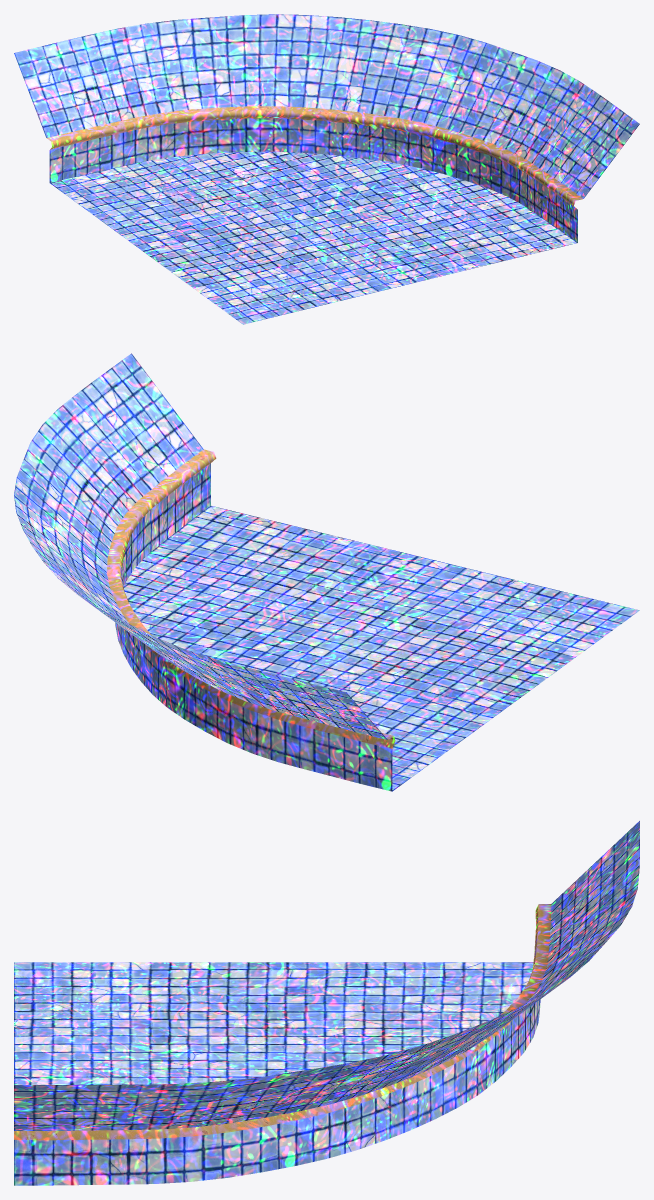
The model's file is water_corner_small_inverse_SM.fbx.
The picture shows the model from 3 angles, top to bottom: view 1: azimuth 30°, elevation 25°; view 2: azimuth 150°, elevation 25°; view 3: azimuth 270°, elevation 25°; orthographic projection. The views are drawn at different scales.
Visible parts, largest first — view 1: water_corner_small_inverse_SM_LOD0; view 2: water_corner_small_inverse_SM_LOD0; view 3: water_corner_small_inverse_SM_LOD0.
Boxes of the visible parts, box(x1,y1,x2,y2) form: water_corner_small_inverse_SM_LOD0: box(14, 14, 639, 324); water_corner_small_inverse_SM_LOD0: box(14, 353, 639, 791); water_corner_small_inverse_SM_LOD0: box(14, 821, 639, 1185).
Size of the model in its own units: 1024 by 1024 by 256.
Materials: 3 (3 with a texture image).
